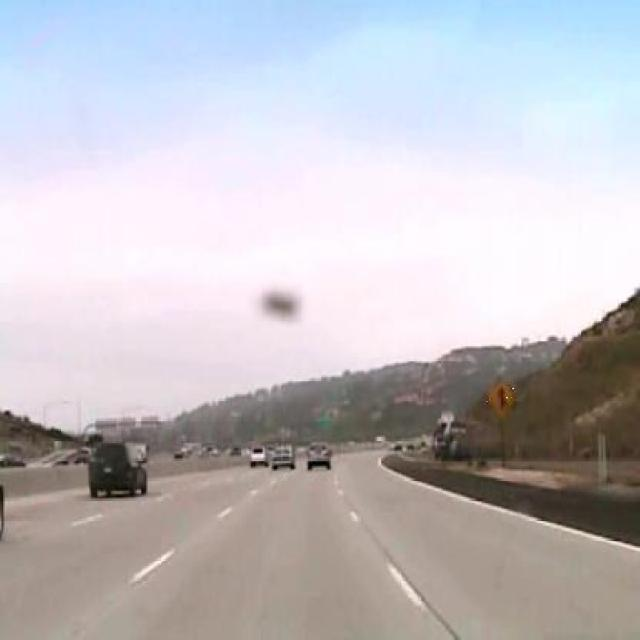merge: (486, 377, 515, 418)
